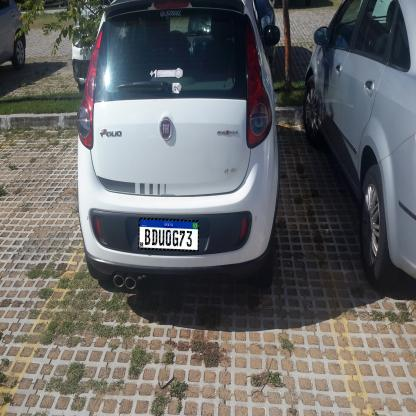PlacaM: (138, 218, 199, 252)
